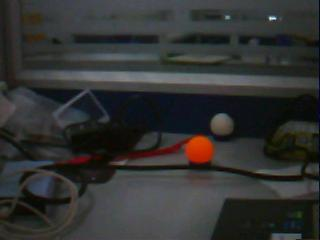oball: (185, 135, 214, 163)
